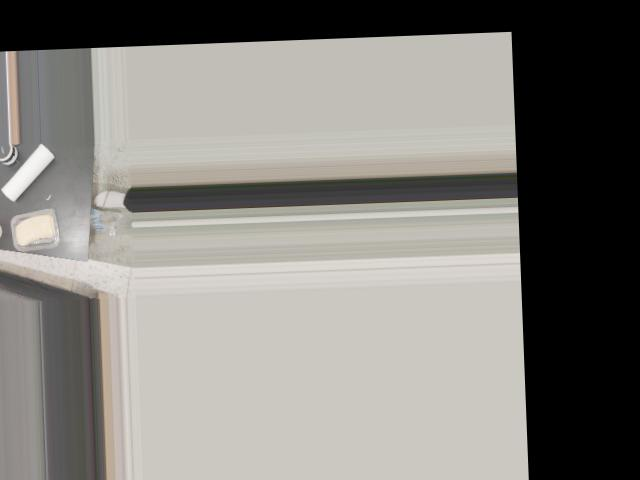cheese: (8, 206, 65, 253)
